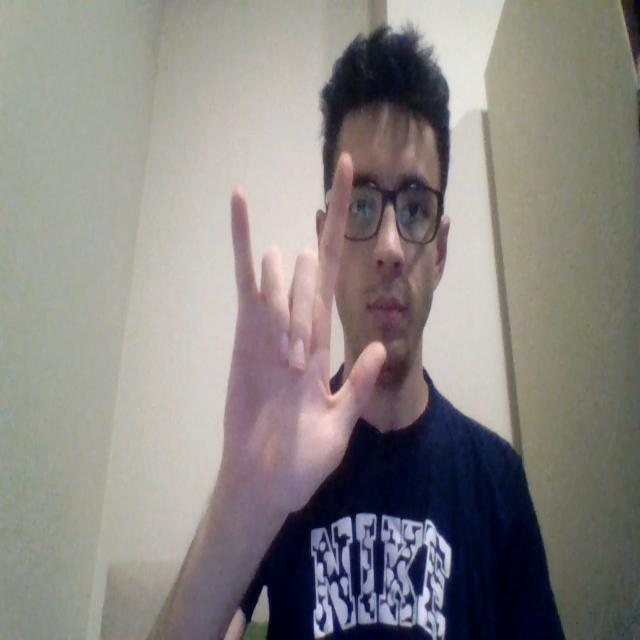iloveyou: (217, 152, 387, 525)
